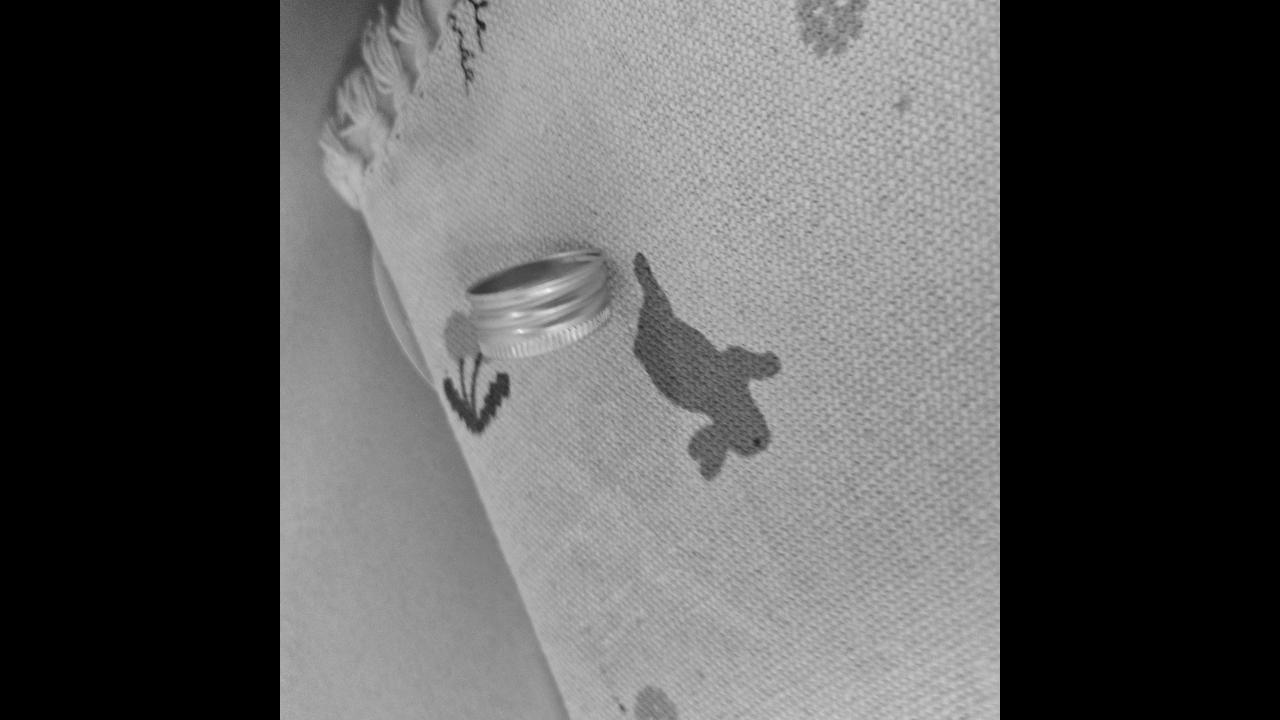bottle_cap: (462, 243, 620, 363)
